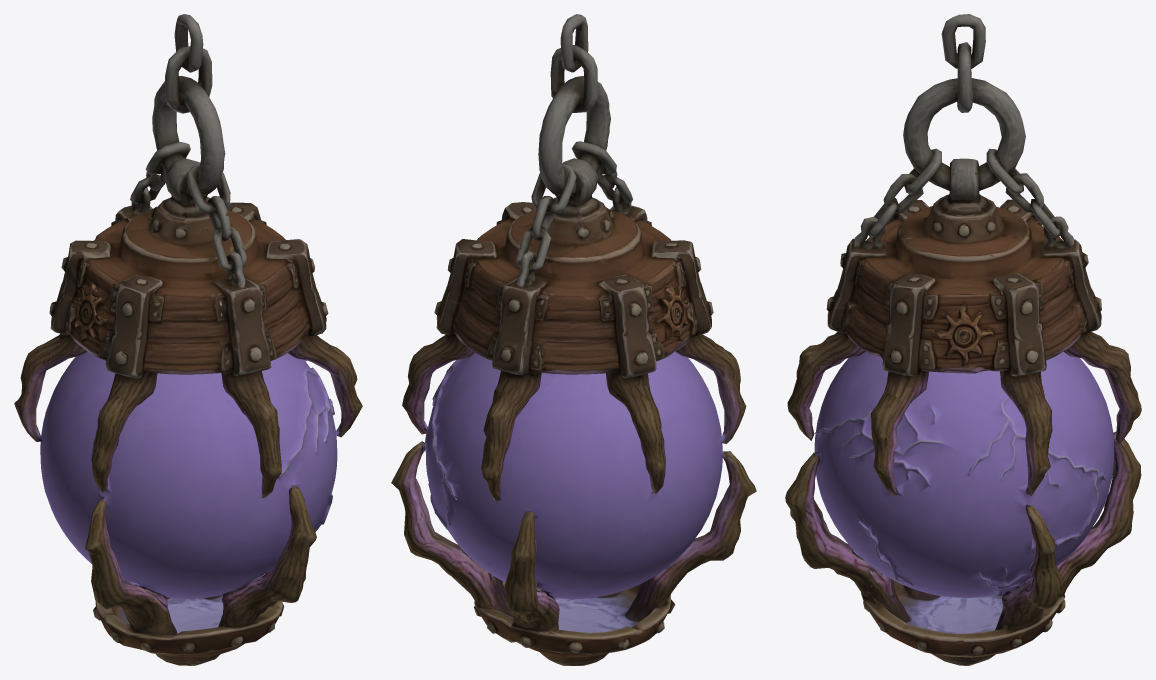
File: magic_lantern.glb
3 renders of one model, left to right at view 1: azimuth 30°, elevation 25°; view 2: azimuth 150°, elevation 25°; view 3: azimuth 270°, elevation 25°, orthographic.
Visible parts, largest first — view 1: tripo_node_030669f9-beed-4ffe-b6cf-6a1b97583517; view 2: tripo_node_030669f9-beed-4ffe-b6cf-6a1b97583517; view 3: tripo_node_030669f9-beed-4ffe-b6cf-6a1b97583517.
Boxes of the visible parts, x1,y1,x2,y2 form: tripo_node_030669f9-beed-4ffe-b6cf-6a1b97583517: [14, 14, 362, 665]; tripo_node_030669f9-beed-4ffe-b6cf-6a1b97583517: [391, 14, 756, 665]; tripo_node_030669f9-beed-4ffe-b6cf-6a1b97583517: [785, 14, 1141, 665].
Bounding box in the file's own units: 0.4639 × 1 × 0.5059.
Materials: 1 (1 with a texture image).
